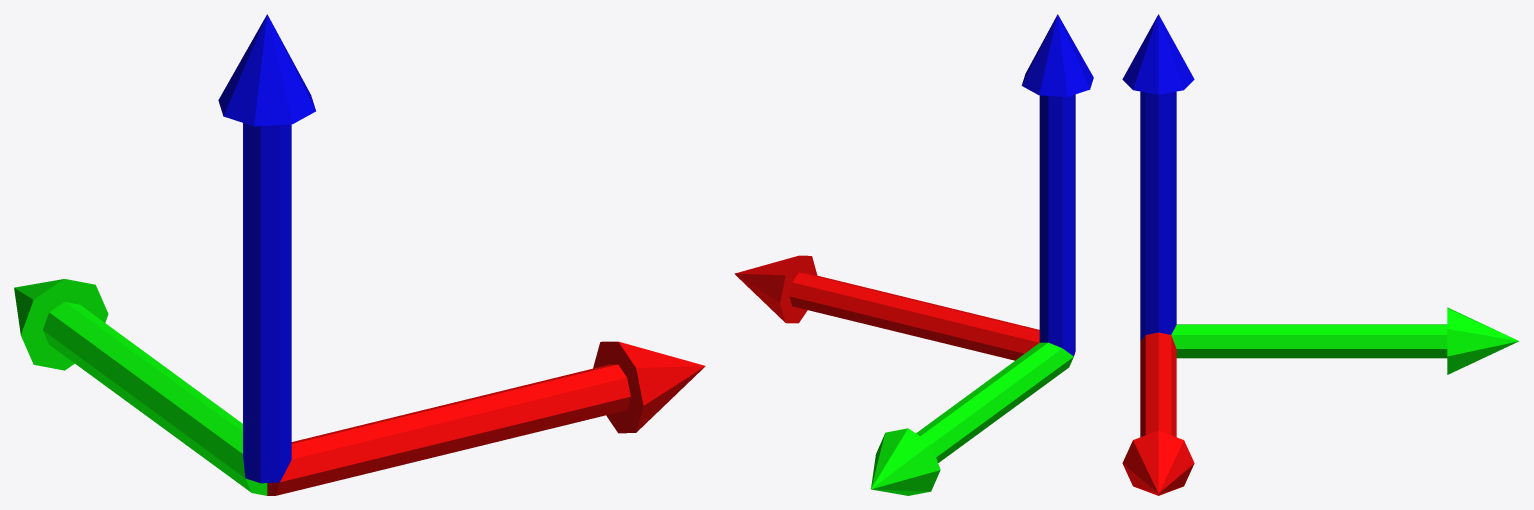
File: debug.gltf
3 renders of one model, left to right at view 1: azimuth 30°, elevation 25°; view 2: azimuth 150°, elevation 25°; view 3: azimuth 270°, elevation 25°, orthographic. The views are drawn at different scales.
Visible parts, largest first — view 1: y; view 2: y; view 3: y.
Part boxes in pixels (x1,y1,x2,y2): y: (14,14,705,495); y: (734,14,1093,495); y: (1122,14,1518,495).
Size of the model in its own units: 1.1 by 1.1 by 1.1.
